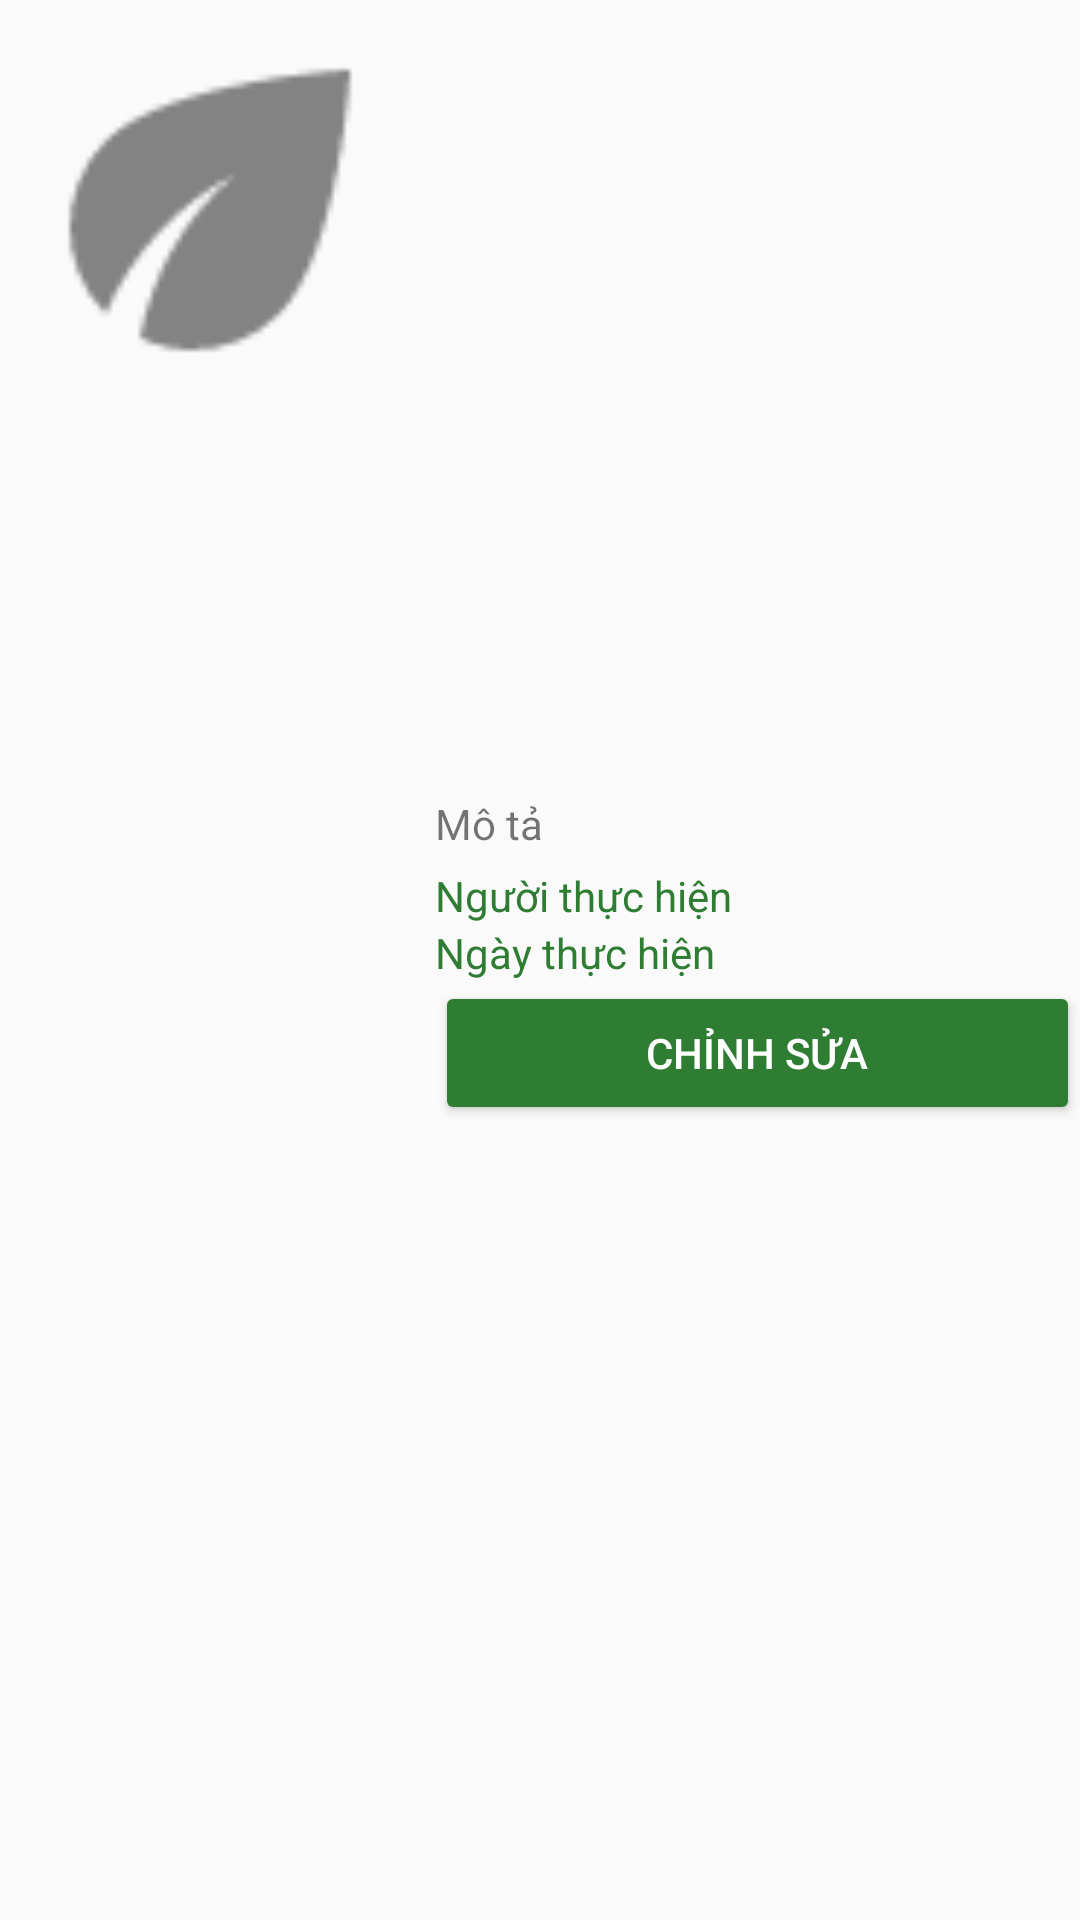

Screen size 1080×1920. Icon name, then its box in pixels as (x1, y1, x2, y2):
leaf: (68, 68, 352, 352)
